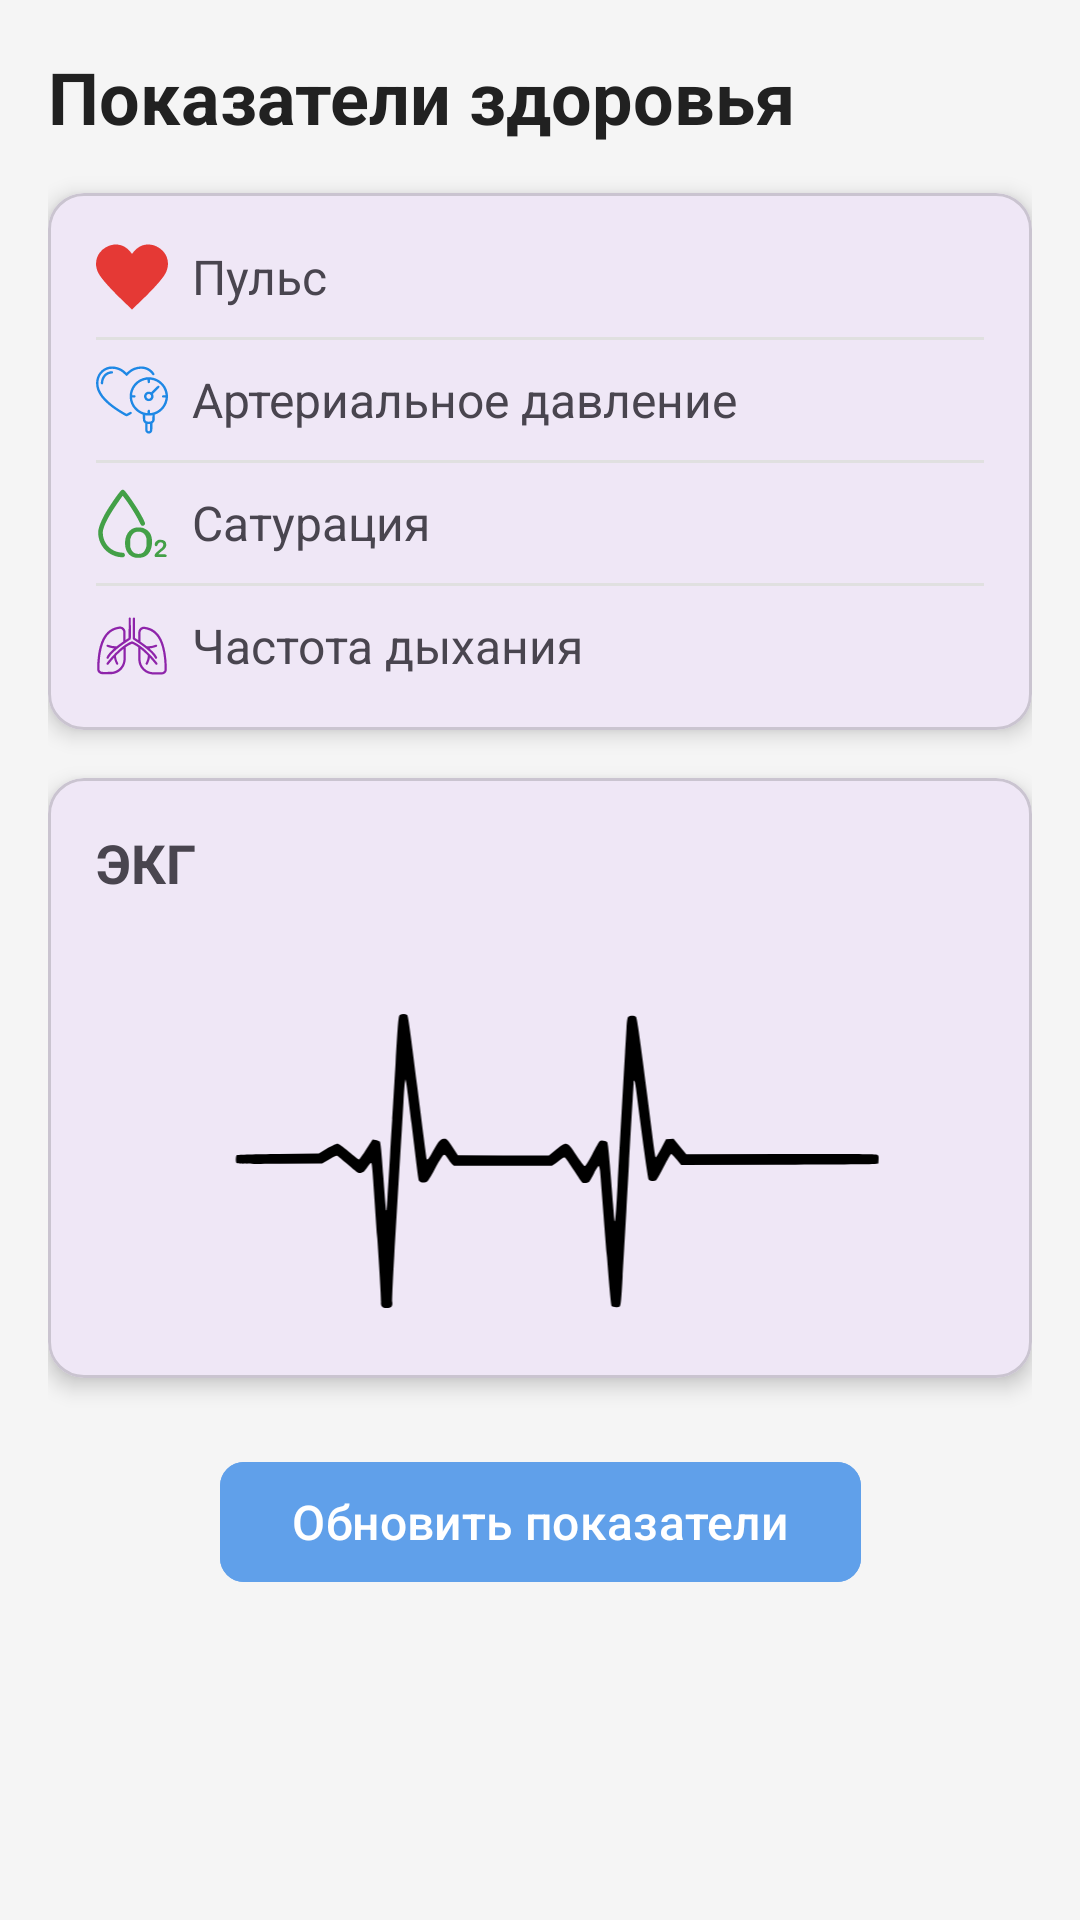

Icon click points for this 1080w x 1920h phone screenshot, format (x,y):
breathing: (132,646)
heart: (132,277)
oxygen: (132,523)
pressure: (132,400)
